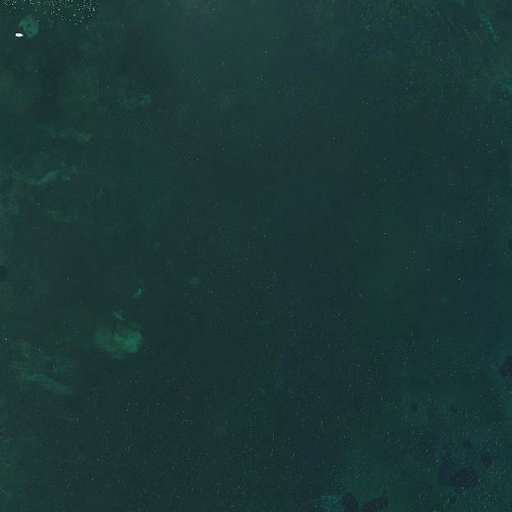ship: (12, 30, 24, 40)
